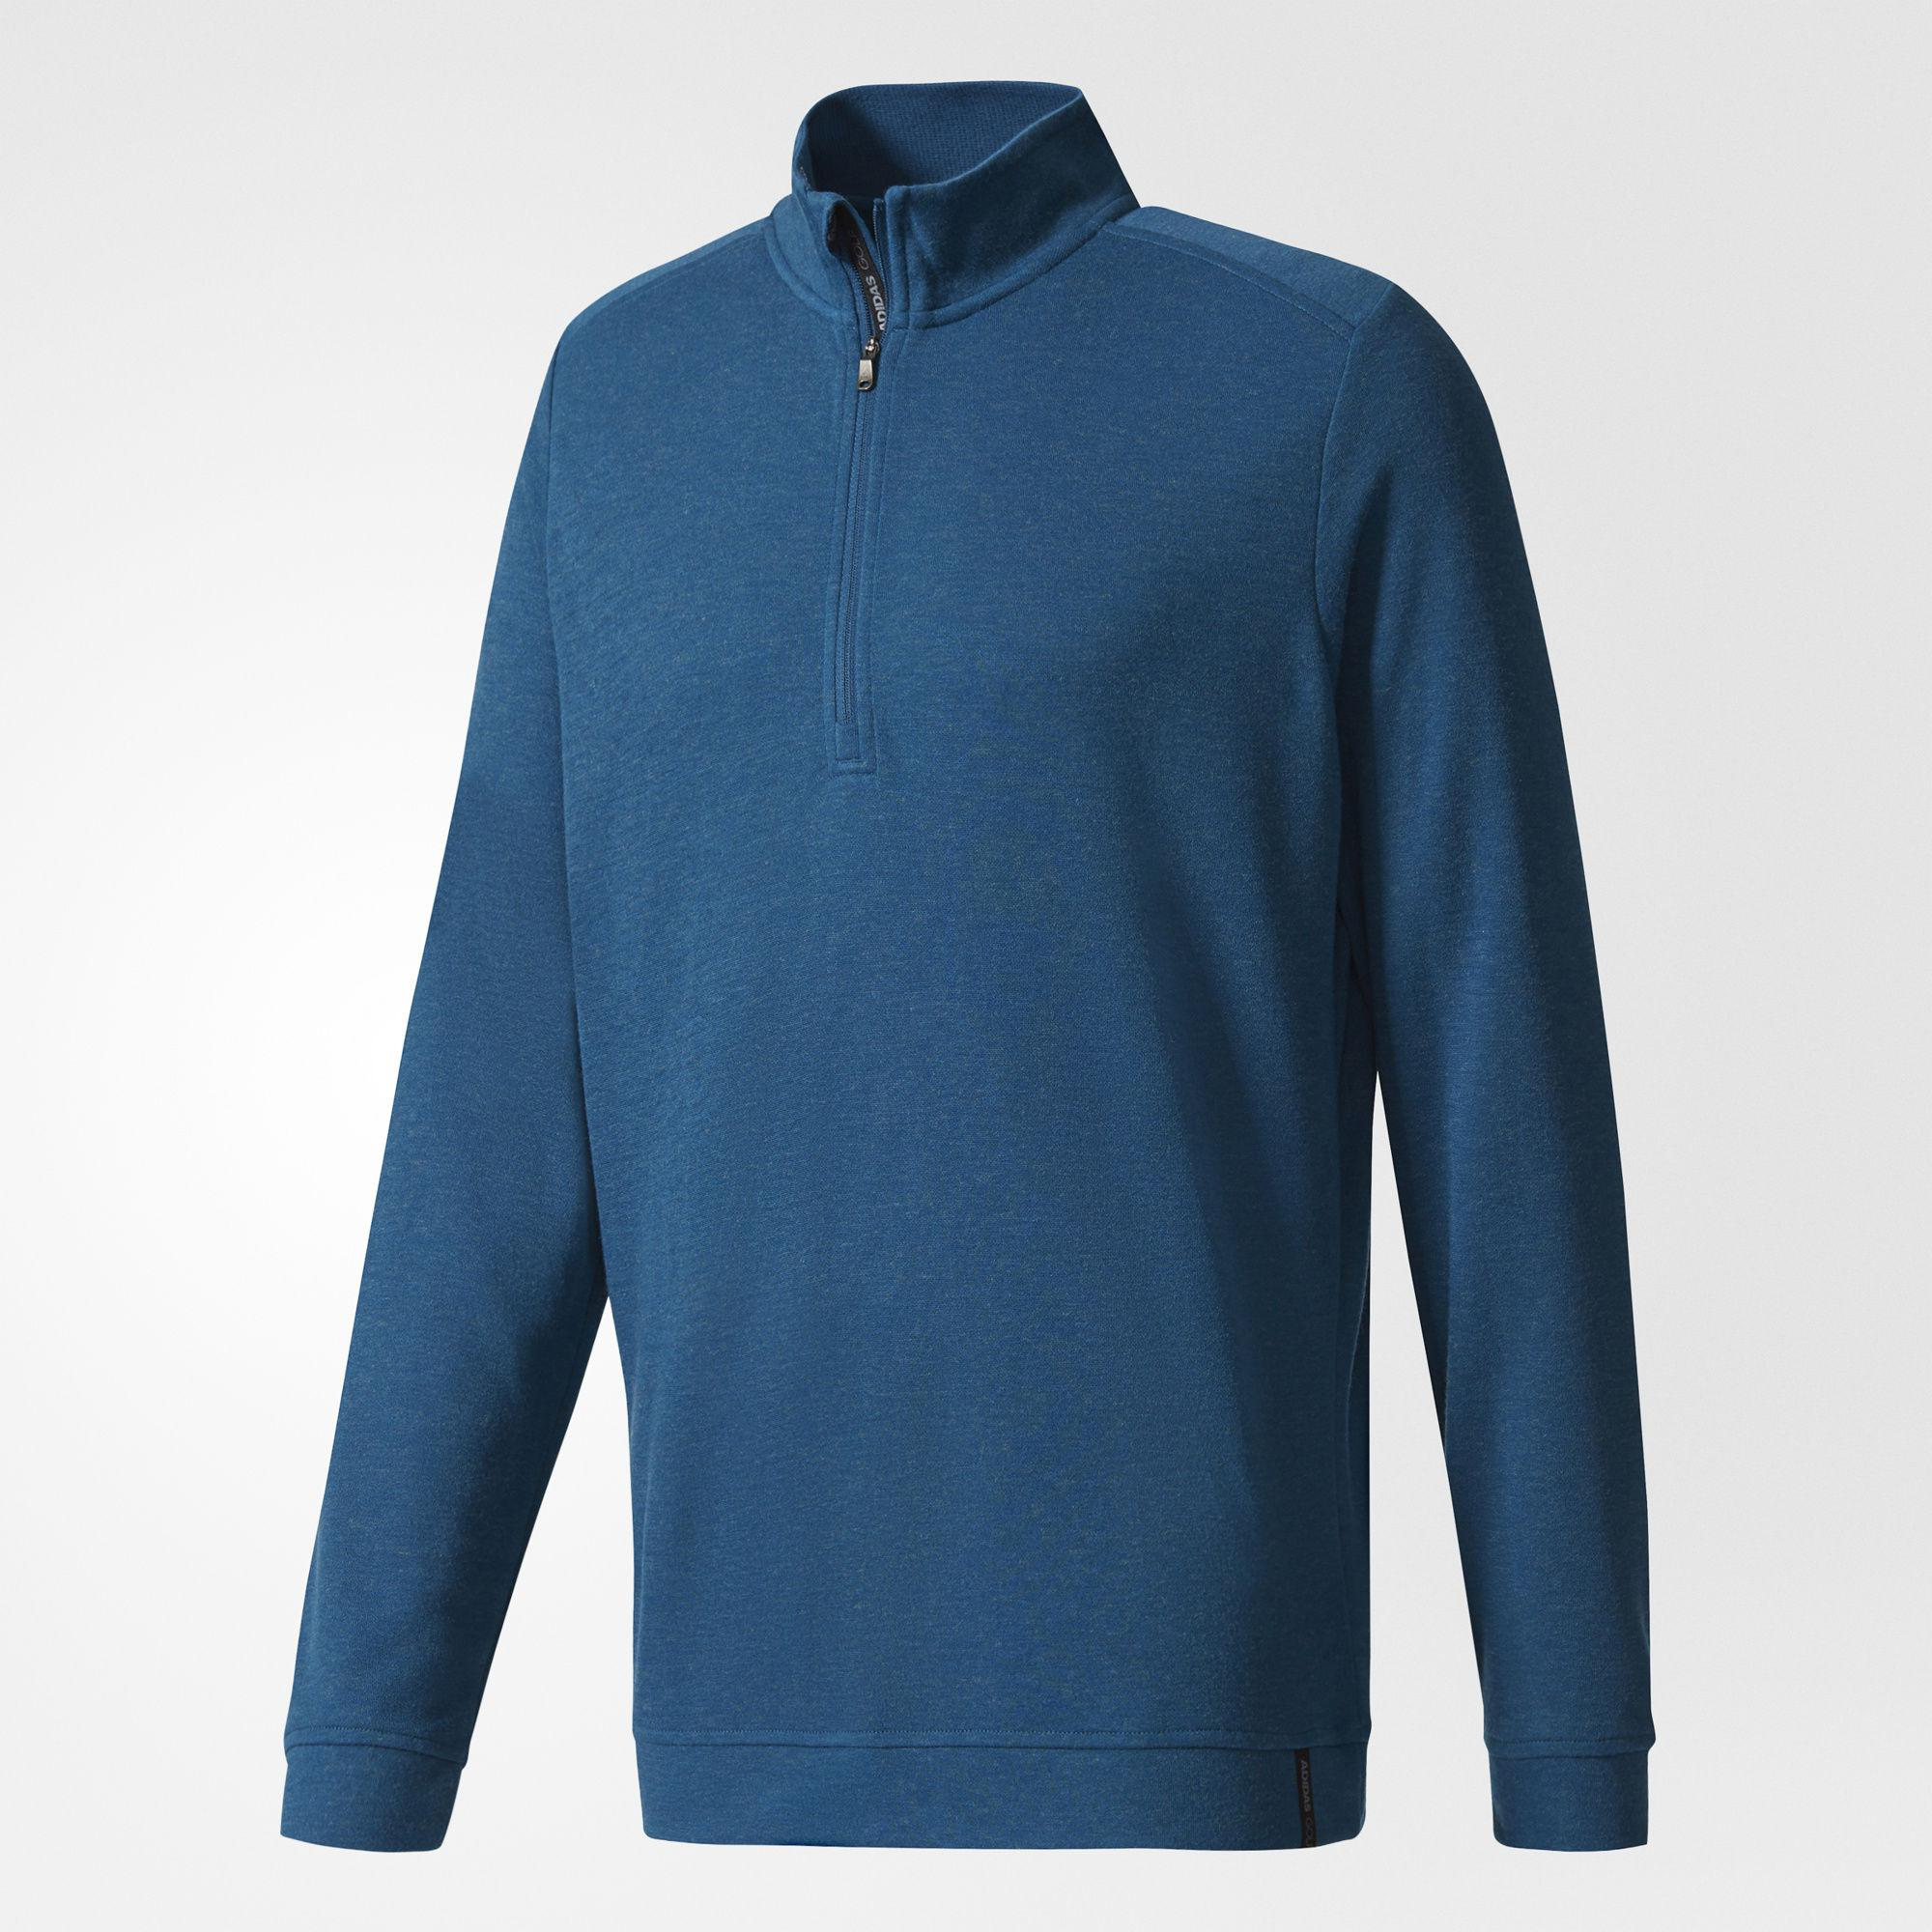teeshirt: (239, 73, 1815, 1932)
